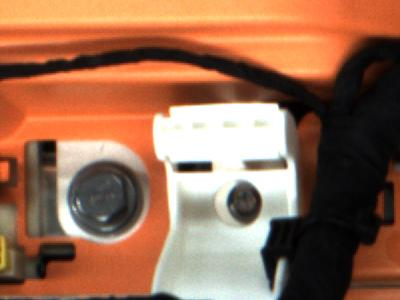nut_b: (58, 159, 150, 242)
